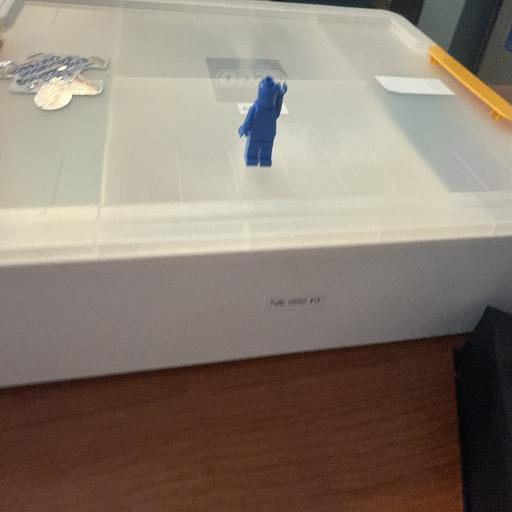Minifig: (238, 76, 287, 166)
